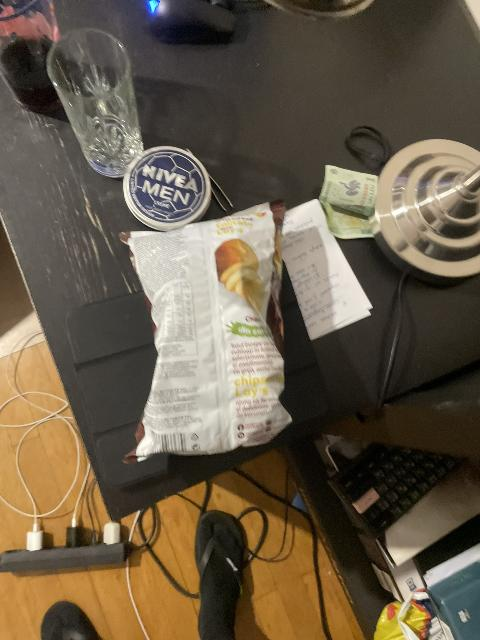Lays Beef Grilled Ribs 125g: (118, 197, 292, 464)
